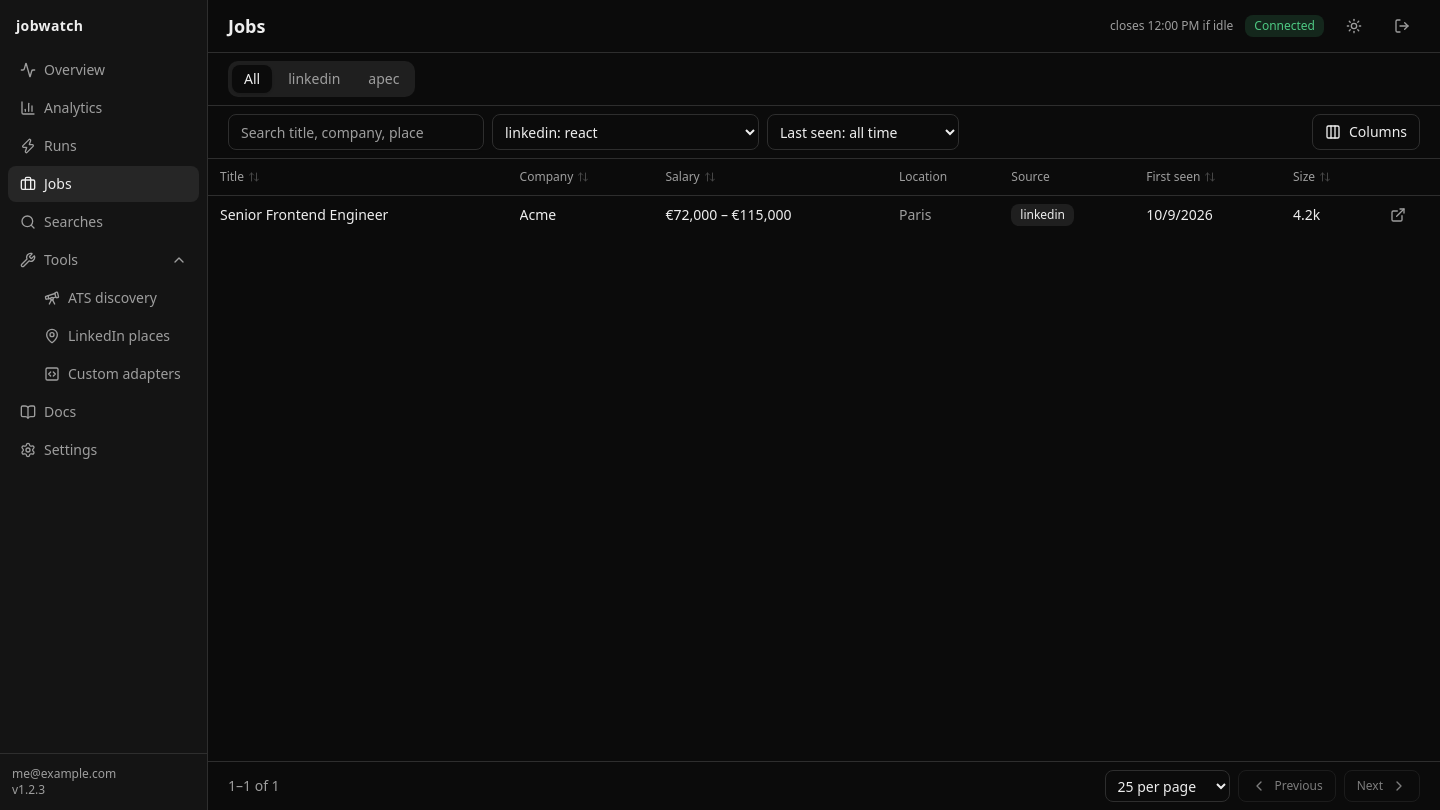
Test: jobs table › switching the source tab › keeps the chosen search on All and on the tab of its own source, with no flash of "Unknown search"
This screenshot has width=1440, height=810.
Expected: the number of rows is 2, 208,159 -> 1439,195; 208,195 -> 1439,234
Expected: the dropdown named "Search" shows "linkedin: react", 492,114 -> 759,150
Step 1. Click the tab "linkedin" → (314, 79), box 276,65 -> 352,93
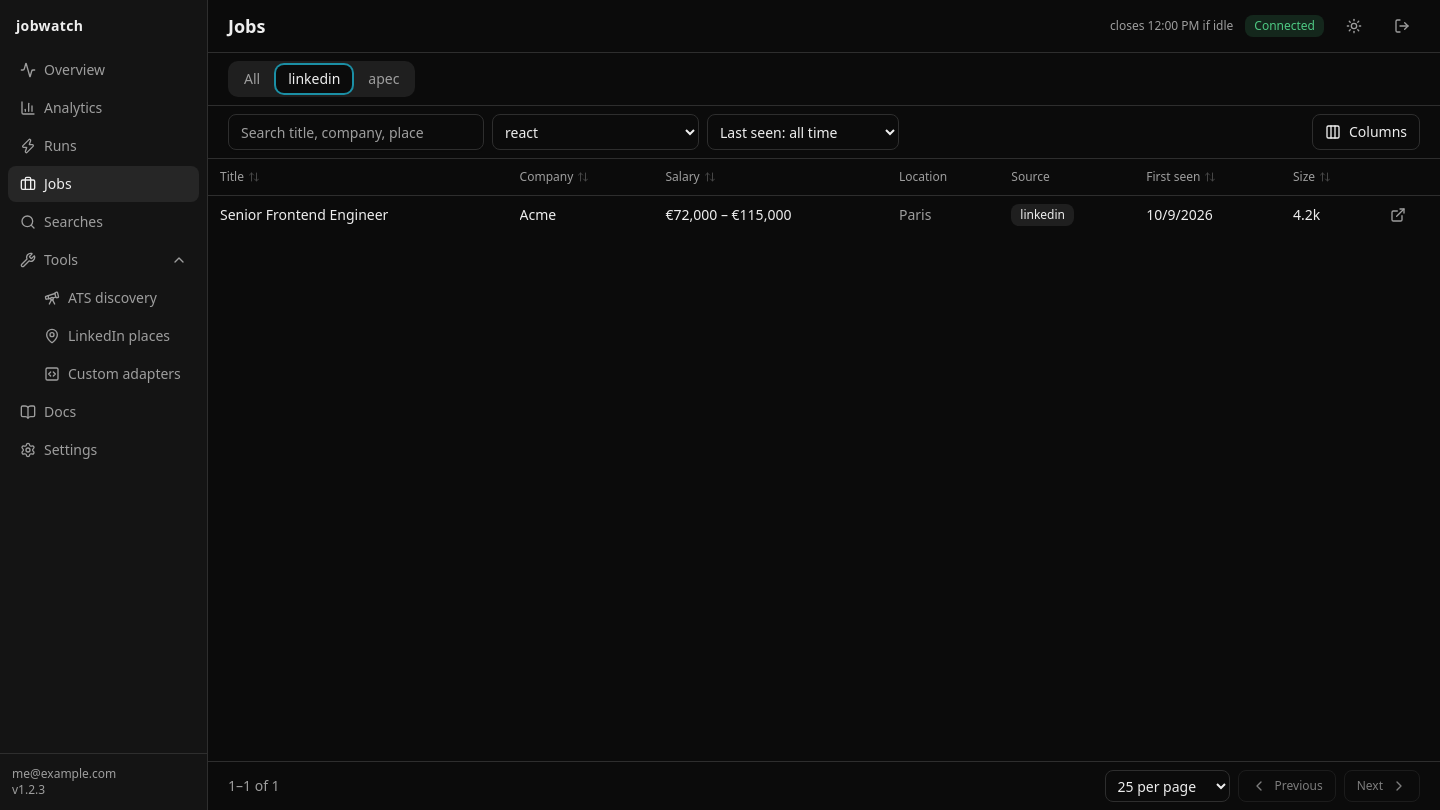
Now the dropdown named "Search" shows "react", box 492,114 -> 699,150
Step 2. Click the tab "All" → (252, 79), box 232,65 -> 272,93
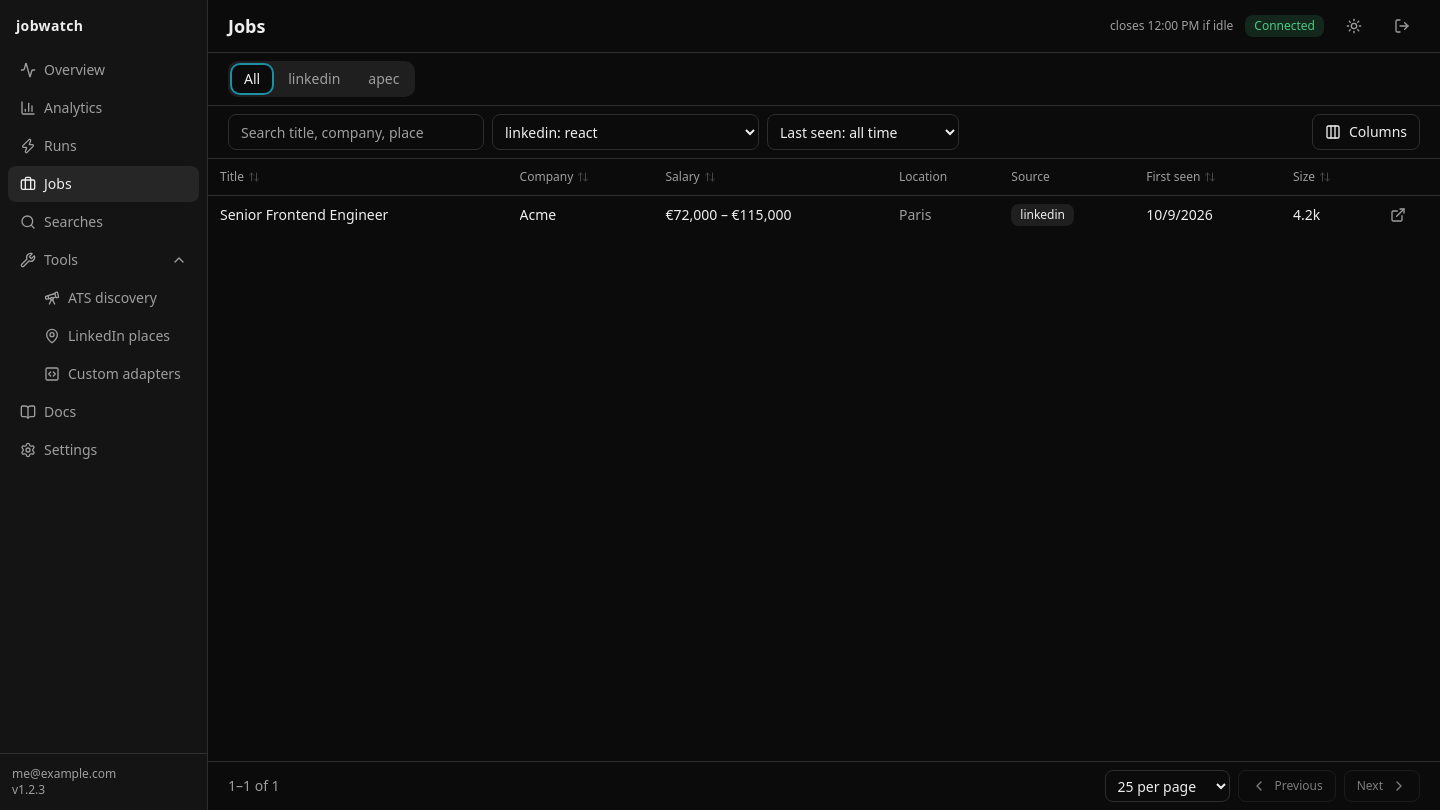
Now the dropdown named "Search" shows "linkedin: react", box 492,114 -> 759,150
